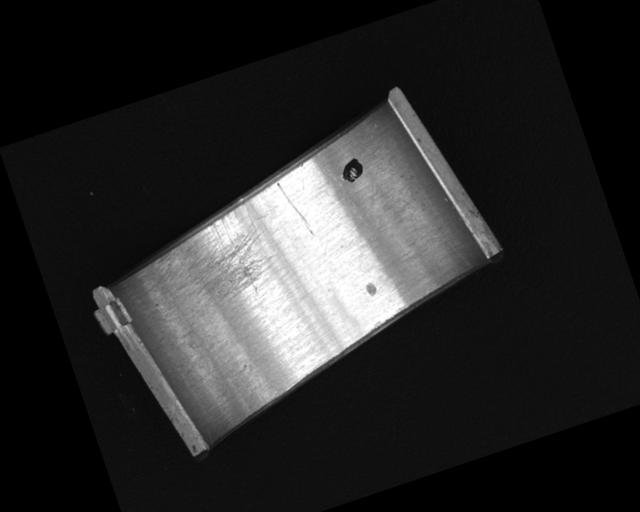blot: (336, 155, 367, 185)
bruise: (364, 279, 379, 298)
nick: (398, 183, 471, 284), (275, 176, 316, 242)
scratch: (144, 198, 280, 321)
